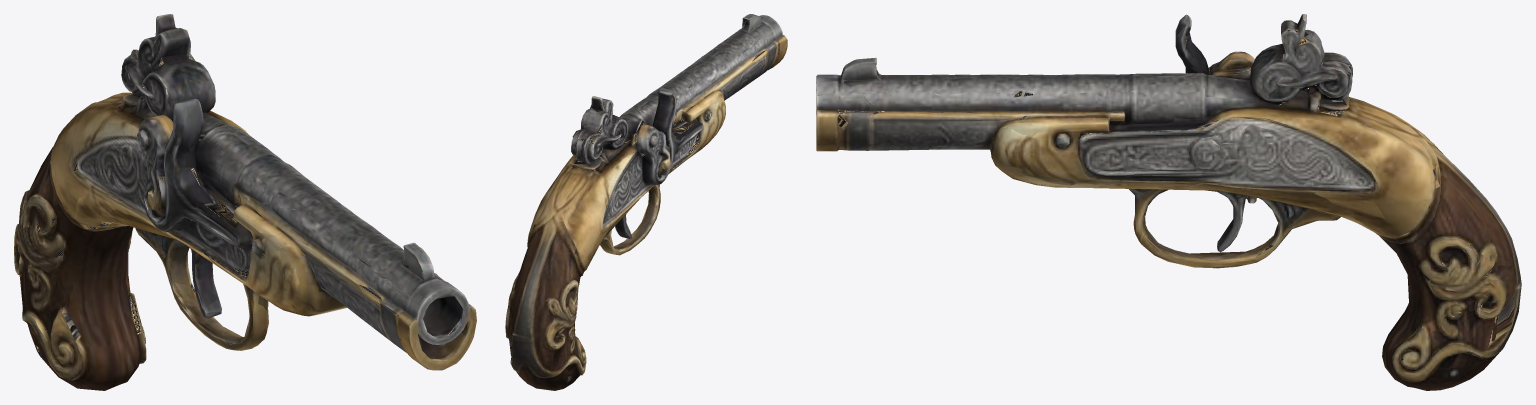
File: flintlock.glb
3 renders of one model, left to right at view 1: azimuth 30°, elevation 25°; view 2: azimuth 150°, elevation 25°; view 3: azimuth 270°, elevation 25°, orthographic. The views are drawn at different scales.
Visible parts, largest first — view 1: model, mesh_lod; view 2: model, mesh_lod; view 3: model, mesh_lod.
Part boxes in pixels (x1,y1,x2,y2): model: (14, 14, 476, 390); mesh_lod: (14, 14, 472, 389); model: (505, 14, 787, 390); mesh_lod: (505, 15, 780, 390); model: (816, 14, 1521, 390); mesh_lod: (817, 14, 1520, 387).
Size of the model in its own units: 0.0568 by 0.1966 by 0.34.
Materials: 1 (1 with a texture image).
